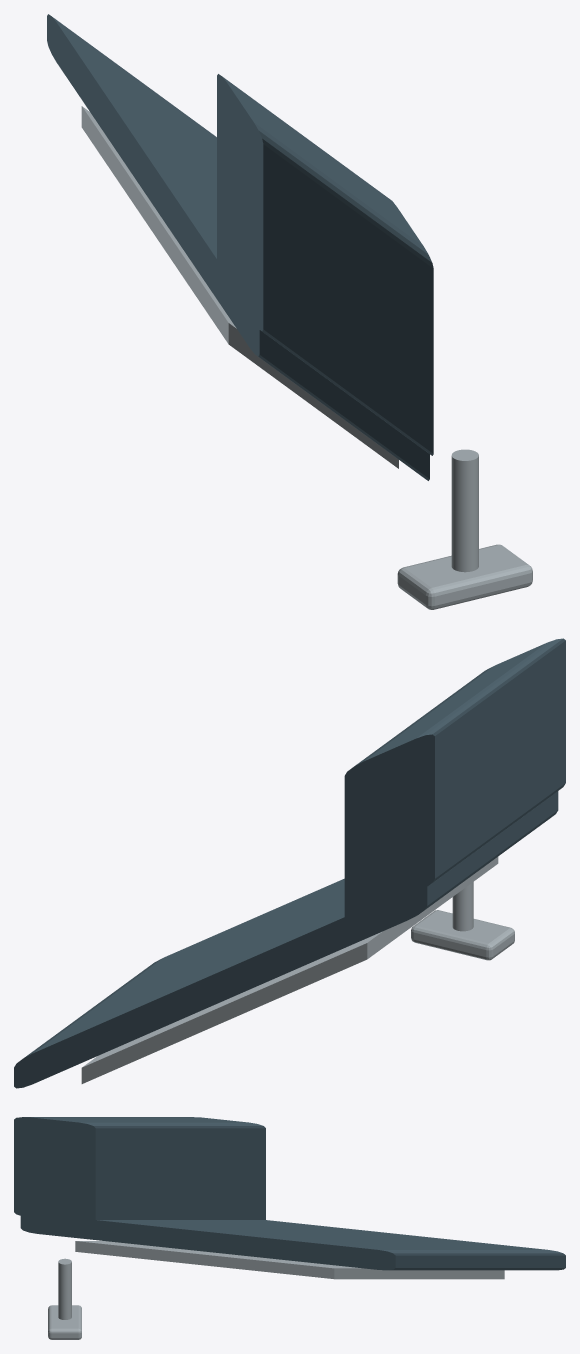
File: cabin_bench_straight.glb
The picture shows the model from 3 angles, top to bottom: view 1: azimuth 30°, elevation 25°; view 2: azimuth 150°, elevation 25°; view 3: azimuth 270°, elevation 25°; orthographic projection. The views are drawn at different scales.
Parts seen in each view (by area): view 1: Bench upright back.001, Bench seat cushion.001, Bench support beam.001, Bench foot.001, Bench pedestal.001; view 2: Bench upright back.001, Bench seat cushion.001, Bench support beam.001, Bench foot.001, Bench pedestal.001; view 3: Bench upright back.001, Bench seat cushion.001, Bench support beam.001, Bench foot.001, Bench pedestal.001.
Part boxes in pixels (x1,y1,x2,y2): Bench upright back.001: (217,74,433,455); Bench seat cushion.001: (47,14,429,480); Bench support beam.001: (81,106,398,468); Bench foot.001: (397,544,532,609); Bench pedestal.001: (451,449,478,572); Bench upright back.001: (344,638,565,919); Bench seat cushion.001: (14,791,558,1088); Bench support beam.001: (81,857,498,1083); Bench foot.001: (411,910,514,960); Bench pedestal.001: (452,882,473,931); Bench upright back.001: (14,1117,265,1223); Bench seat cushion.001: (20,1213,565,1270); Bench support beam.001: (75,1241,504,1279); Bench foot.001: (48,1305,81,1339); Bench pedestal.001: (58,1258,71,1319).
Size of the model in its own units: 0.56 by 1.25 by 3.24.
